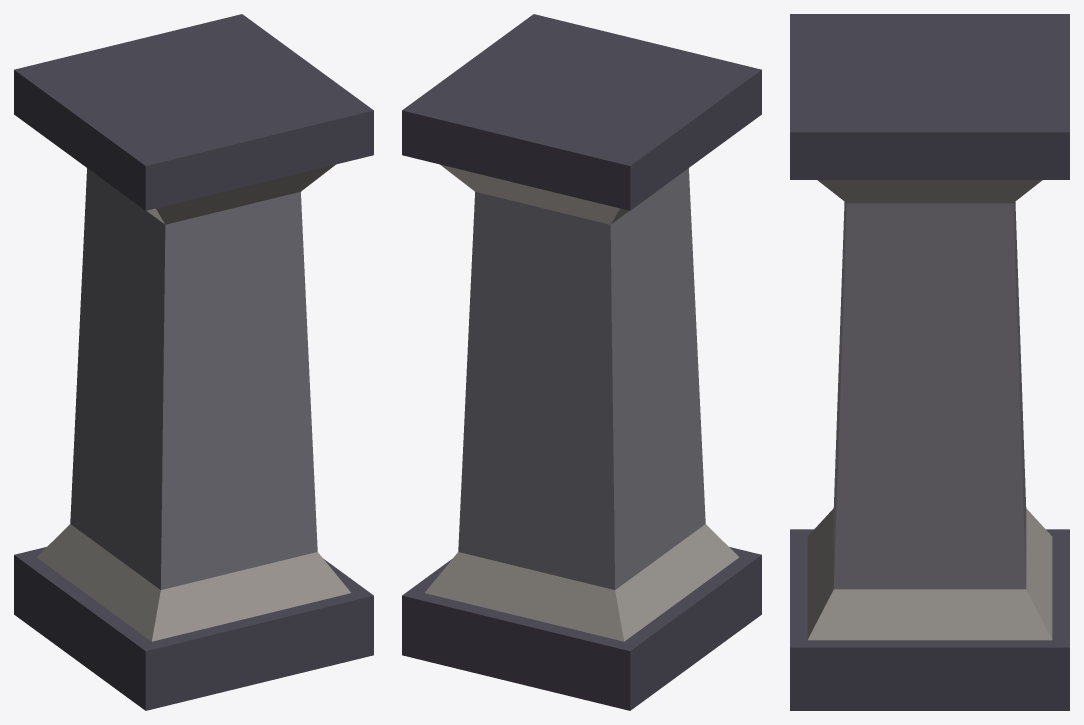
The model's file is pillar_square.fbx.
The picture shows the model from 3 angles, left to right: view 1: azimuth 30°, elevation 25°; view 2: azimuth 150°, elevation 25°; view 3: azimuth 270°, elevation 25°; orthographic projection. The views are drawn at different scales.
Parts seen in each view (by area): view 1: pillar_square; view 2: pillar_square; view 3: pillar_square.
Boxes of the visible parts, box(x1,y1,x2,y2) form: pillar_square: box(14, 14, 373, 710); pillar_square: box(402, 14, 761, 710); pillar_square: box(790, 14, 1069, 710).
Bounding box in the file's own units: 1.6 × 3.65 × 1.6.
